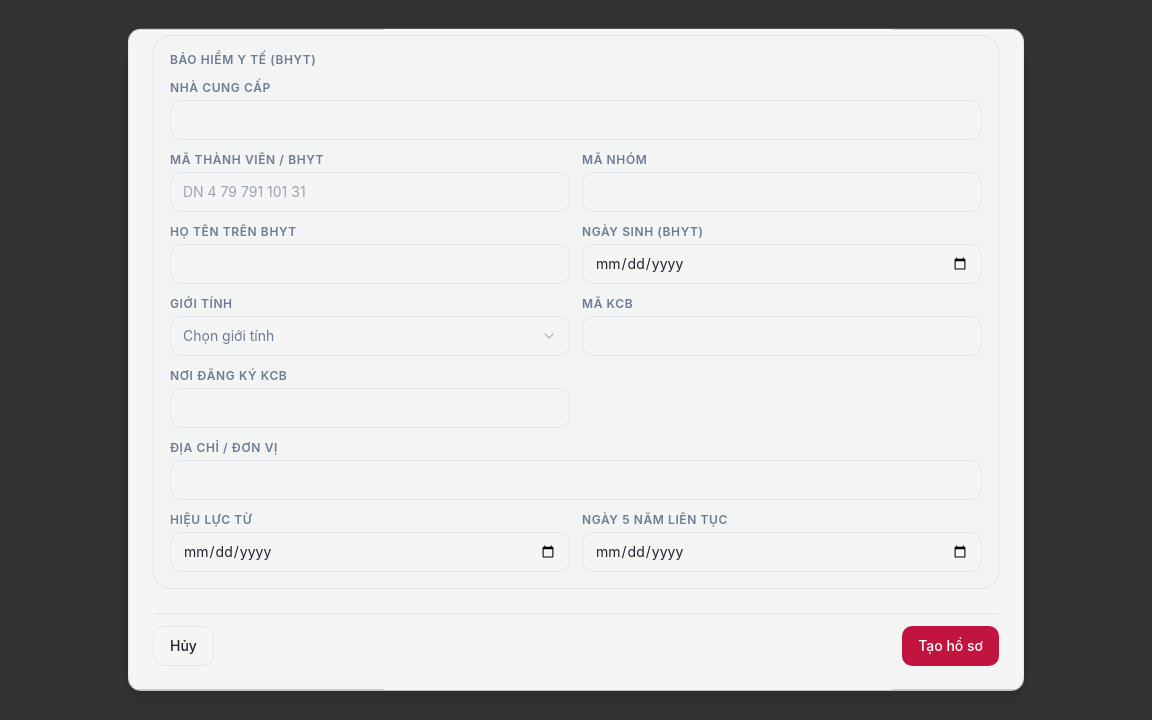
Test: AdminNewPatientDialog optional document uploads › should show Vui lòng nhập under empty required fields including CCCD text fields
(page scrolled)
Click the button "Tạo hồ sơ". click: (951, 646)
box: [902,626,999,666]
(page scrolled)
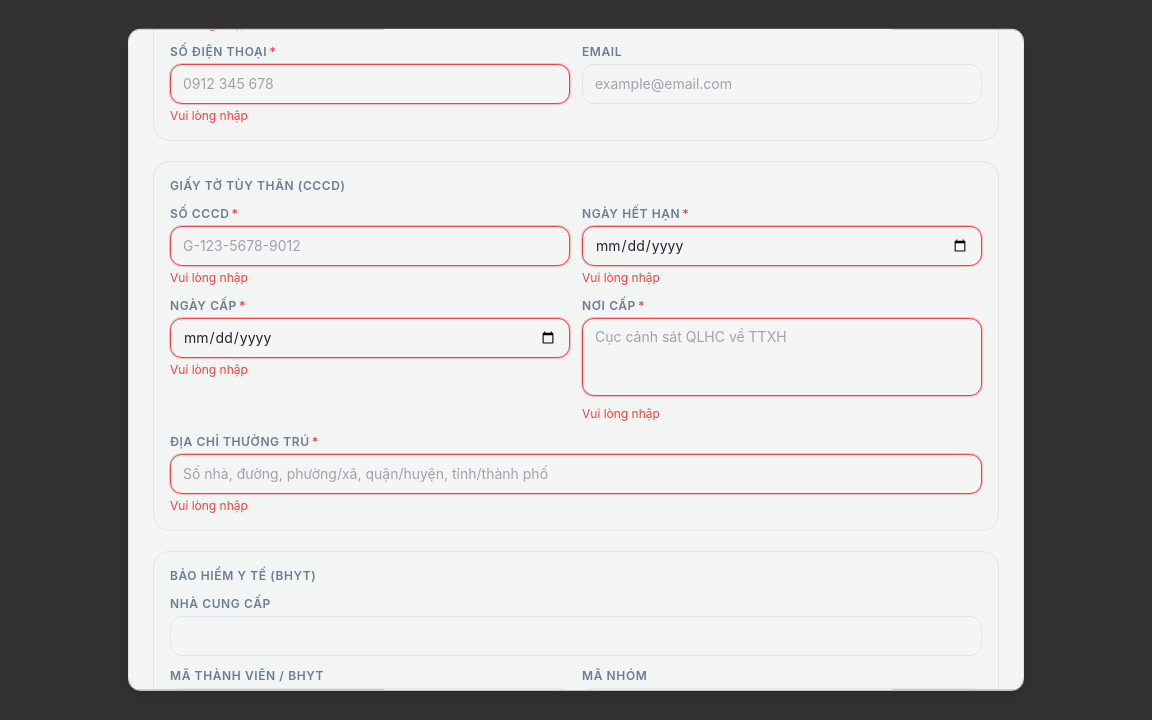
Now the label "Số CCCD*" is shown, box [170,206,238,221]
Now the label "Ngày hết hạn*" is shown, box [582,206,689,221]
Now the label "Địa chỉ thường trú*" is shown, box [170,434,319,449]
